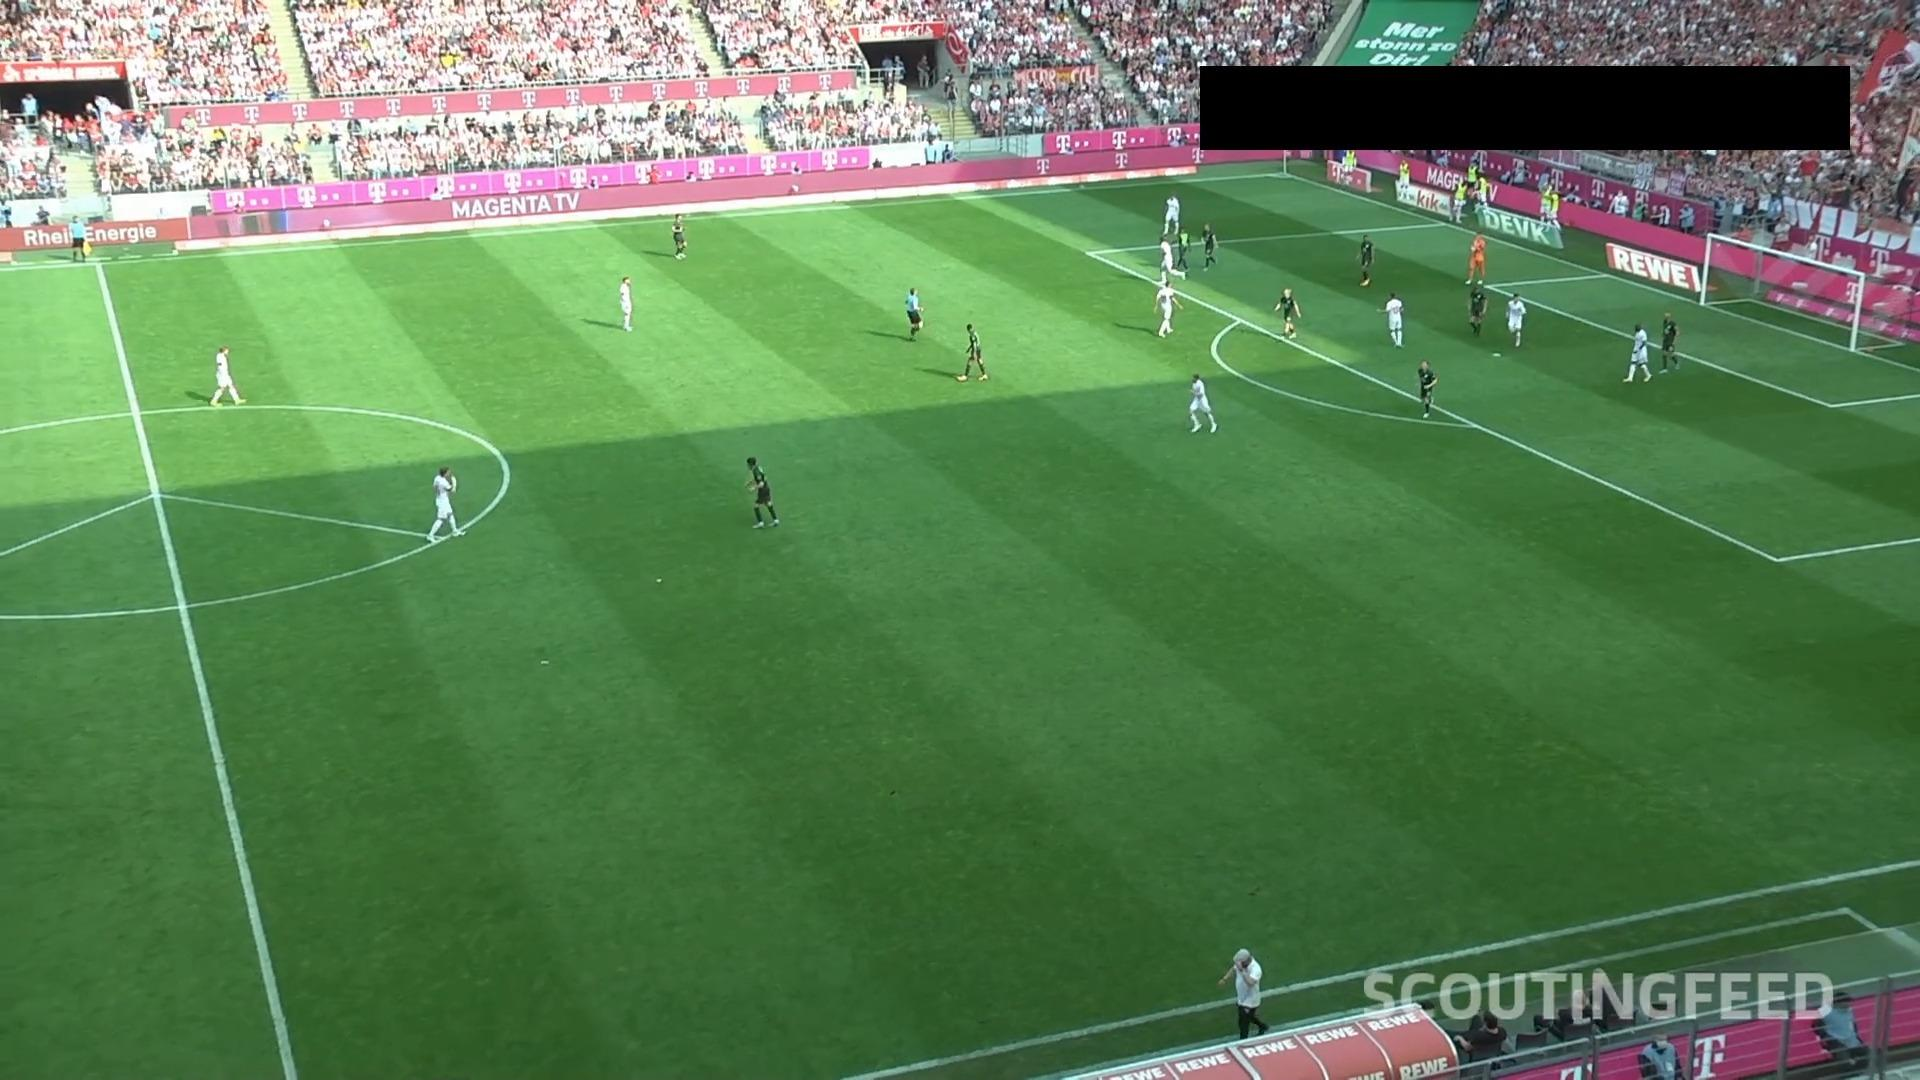ball: (1469, 245, 1477, 253)
